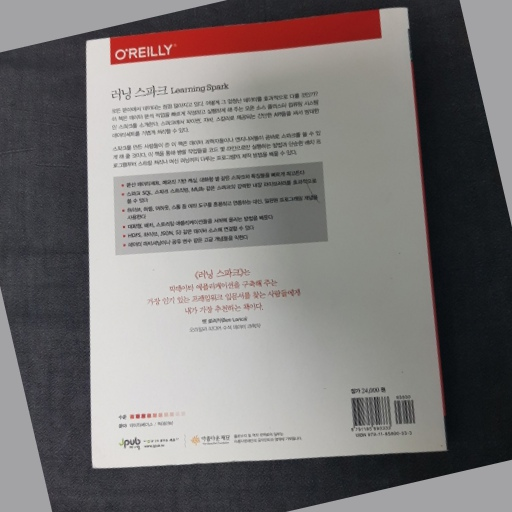Paper_0: (77, 8, 453, 470)
